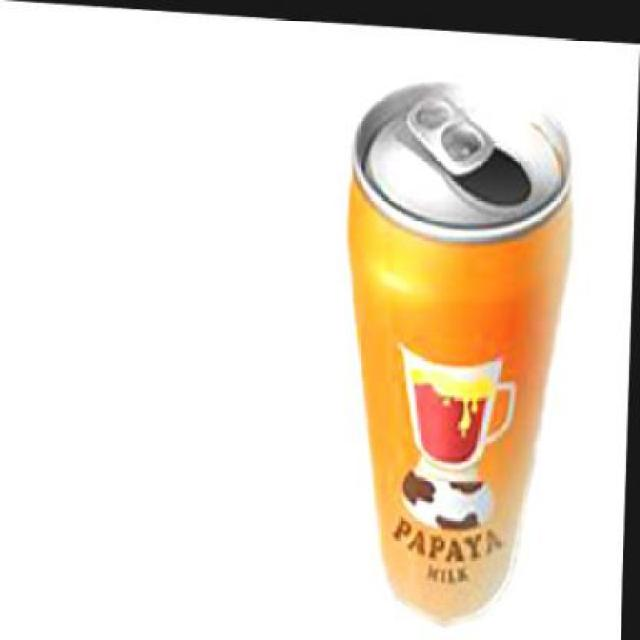Metal: (347, 72, 580, 633)
